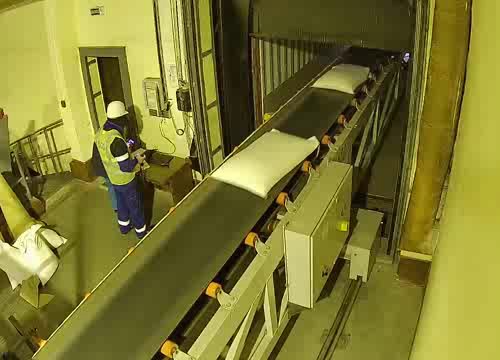bag: (205, 125, 322, 200), (311, 57, 376, 102)
